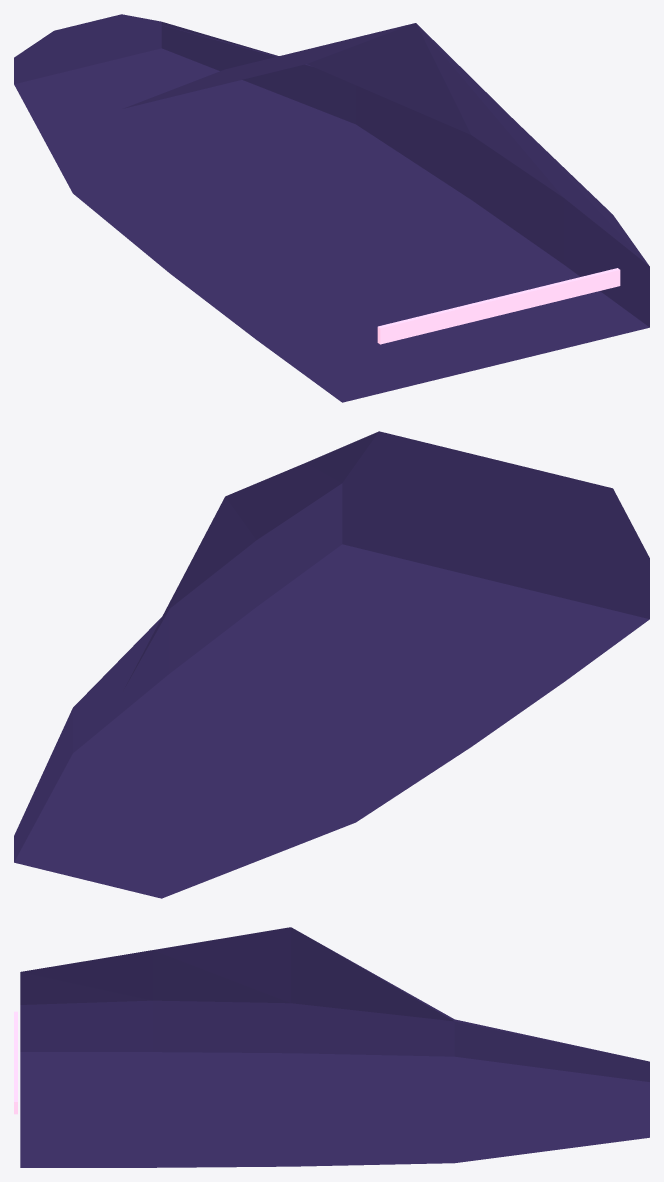
The model's file is 01_midnight_wedge.glb.
The picture shows the model from 3 angles, top to bottom: view 1: azimuth 30°, elevation 25°; view 2: azimuth 150°, elevation 25°; view 3: azimuth 270°, elevation 25°; orthographic projection. The views are drawn at different scales.
Visible parts, largest first — view 1: Midnight Wedge; view 2: Midnight Wedge; view 3: Midnight Wedge.
Part boxes in pixels (x1,y1,x2,y2): Midnight Wedge: (14,14,649,402); Midnight Wedge: (14,431,649,898); Midnight Wedge: (14,927,649,1167).
Size of the model in its own units: 1.96 by 1.16 by 4.55.
